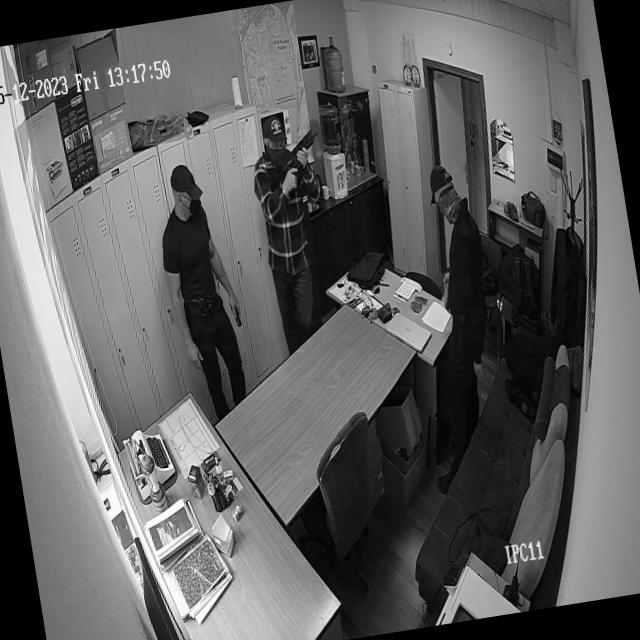gun: (274, 126, 328, 194)
person: (388, 160, 522, 498), (148, 160, 258, 426)
person with a gun: (243, 107, 352, 354)
